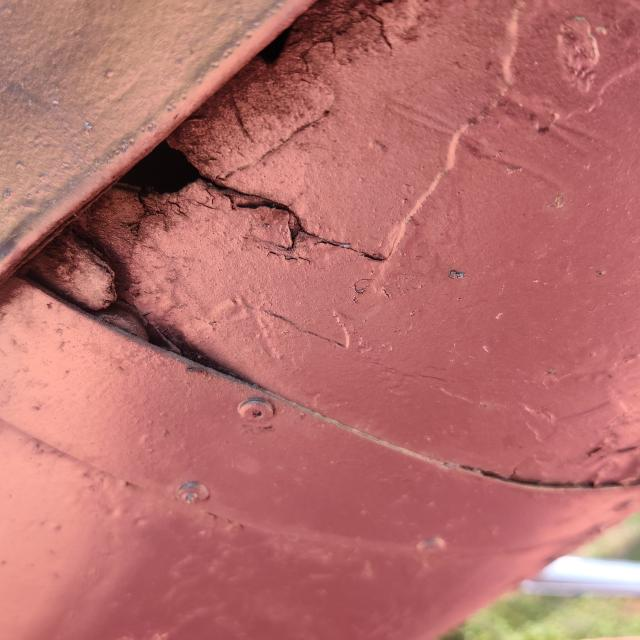crack: (97, 130, 316, 265)
